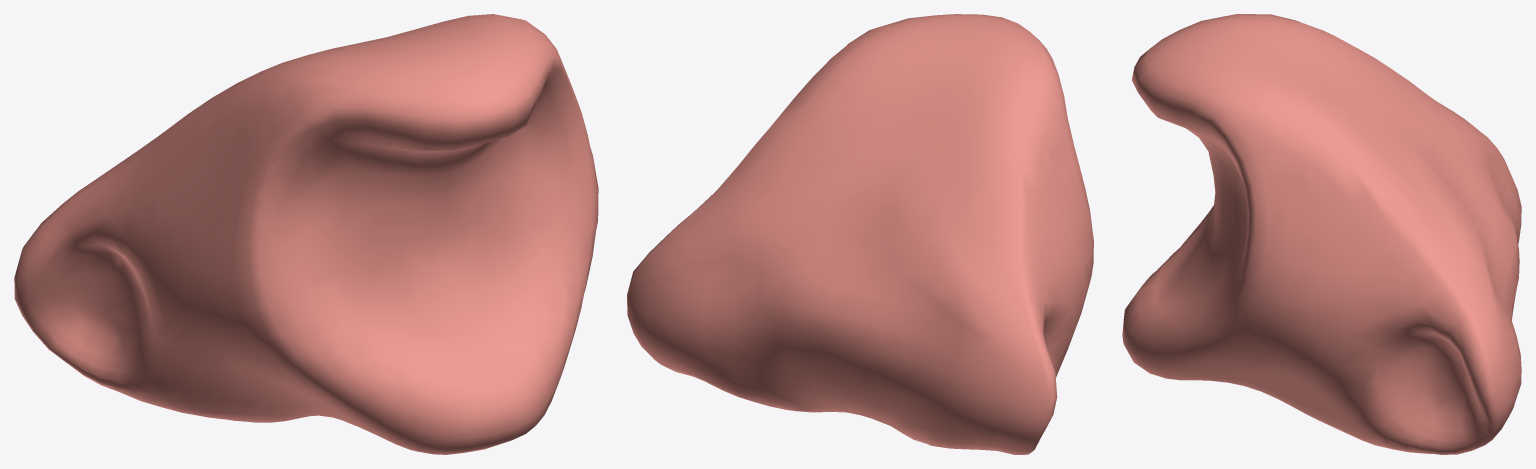
The model's file is mixamo_humanoid_surface_spine.fbx.
3 renders of one model, left to right at view 1: azimuth 30°, elevation 25°; view 2: azimuth 150°, elevation 25°; view 3: azimuth 270°, elevation 25°, orthographic. The views are drawn at different scales.
Parts seen in each view (by area): view 1: surface_Spine; view 2: surface_Spine; view 3: surface_Spine.
Boxes of the visible parts, x1=… form: surface_Spine: x1=14, y1=14, x2=598, y2=454; surface_Spine: x1=627, y1=14, x2=1093, y2=454; surface_Spine: x1=1122, y1=14, x2=1521, y2=454.
Bounding box in the file's own units: 38.57 × 28.37 × 29.24.
